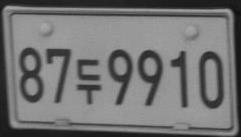0: (198, 49, 224, 109)
1: (166, 49, 195, 108)
7: (45, 48, 71, 104)
8: (18, 46, 44, 103)
9: (106, 48, 133, 105), (136, 49, 163, 106)
두: (75, 59, 102, 104)
